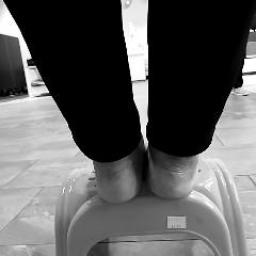Back View -Both Feet-: (63, 104, 224, 214)
